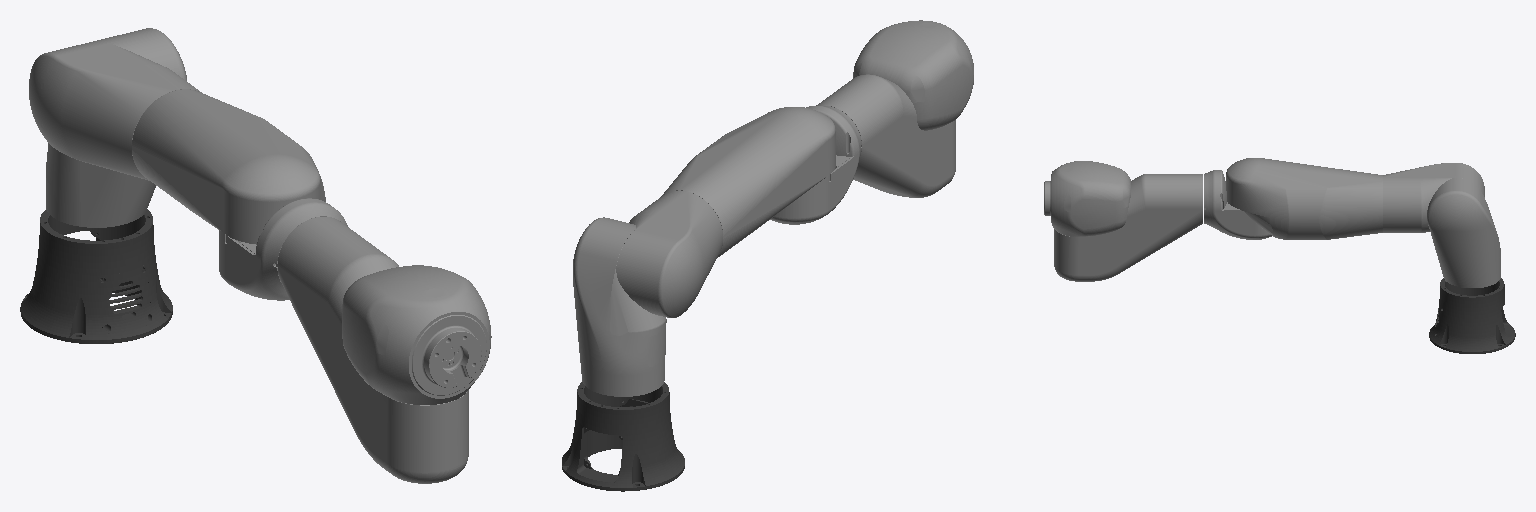
URDF robot description (repair_arm):
<?xml version="1.0" ?>
<!-- =================================================================================== -->
<!-- |    This document was autogenerated by xacro from repair_arm_final.urdf.xacro    | -->
<!-- |    EDITING THIS FILE BY HAND IS NOT RECOMMENDED                                 | -->
<!-- =================================================================================== -->
<robot name="repair_arm">
  <material name="grey">
    <color rgba="0.5 0.5 0.5 1"/>
  </material>
  <material name="dark_grey">
    <color rgba="0.3 0.3 0.3 1"/>
  </material>
  <material name="red">
    <color rgba="1.0 0.0 0.0 1"/>
  </material>
  <material name="green">
    <color rgba="0.0 1.0 0.0 1"/>
  </material>
  <material name="blue">
    <color rgba="0.13333333333333333 0.25882352941176473 0.7803921568627451 1.0"/>
  </material>
  <material name="darkblue">
    <color rgba="0.0 0.3 0.9 1"/>
  </material>
  <material name="darkred">
    <color rgba="0.55 0.0 0.0 1"/>
  </material>
  <material name="dark">
    <color rgba="0.6 0.6 0.6 1"/>
  </material>
  <!-- macro for generating the urdf associated with a single arm of the RePair platform -->
  <!-- id: specifies the id of the arm (e.g. 0 for left arm and 1 for right) -->
  <!-- base_link: name of base link a the single arm -->
  <!-- is_sliding_wrist: whether to add a sliding joint along the wrist second d.o.f.
    (true -> yes), everything else -> no. This is used to generate the URDF for the optimization.  -->
  <!-- gen_coll: whether to add the approximate collision  model of the platform -->
  <!-- use_updated_wrist: visual parameter. if true, we load the latest meshes (which are adapted to the
results of the optimization), otherwise we go with the old ones (generated for a spherical wrist) -->
  <!-- 0.0  -->
  <!-- 2.4405495 -->
  <!-- 7.8724534e-01 -->
  <!-- 2.8848438e+00-->
  <!-- 6.0145584e-01 -->
  <!-- 2.7650803e+00 -->
  <!-- 1.8854765e+00 -->
  <!-- 2.4405495 -->
  <!-- Origin -->
  <!-- <xacro:property name="motor_A_velocity" value="8.8"/>
    <xacro:property name="motor_B_velocity" value="8.1"/>
    <xacro:property name="motor_C_velocity" value="20.0"/>
    
    <xacro:property name="motor_A_effort" value="304"/>
    <xacro:property name="motor_B_effort" value="147"/>
    <xacro:property name="motor_C_effort" value="35"/> -->
  <gazebo>
    <plugin filename="libxbot2_gz_joint_server.so" name="xbot2_joint_driver">
      <pid>
        <gain d="1" name="fake_mot" p="10"/>
        <gain d="10" name="small_mot" p="1000"/>
        <gain d="20" name="medium_mot" p="2000"/>
        <pid name="j_arm_1_1" profile="medium_mot"/>
        <pid name="j_arm_1_2" profile="medium_mot"/>
        <pid name="j_arm_1_3" profile="medium_mot"/>
        <pid name="j_arm_1_4" profile="medium_mot"/>
        <pid name="j_arm_1_5" profile="small_mot"/>
        <pid name="j_arm_1_6" profile="small_mot"/>
        <pid name="j_arm_1_7" profile="small_mot"/>
      </pid>
    </plugin>
  </gazebo>
  <link name="world"/>
  <!-- base -->
  <link name="base_link">
    <inertial>
      <origin xyz="0.00020548930000000002 -0.00062095789 0.077352002"/>
      <mass value="2.7764953"/>
      <inertia ixx="0.010002127" ixy="4.1468013999999995e-05" ixz="-5.1253649e-05" iyy="0.010728527" iyz="-0.00012700723" izz="0.006215603699999999"/>
    </inertial>
    <visual>
      <origin rpy="0.0 0.0 0.0" xyz="0.0 0.0 0.0"/>
      <geometry>
        <mesh filename="package://repair_urdf/meshes/mesh_base.stl" scale="0.001 0.001 0.001"/>
      </geometry>
      <material name="dark_grey"/>
    </visual>
    <collision>
      <origin rpy="0.0 0.0 0.0" xyz="0.0 0.0 0.0"/>
      <geometry>
        <mesh filename="package://repair_urdf/meshes/simplified/mesh_base.stl" scale="0.001 0.001 0.001"/>
      </geometry>
    </collision>
  </link>
  <!-- base -->
  <joint name="base_joint" type="fixed">
    <parent link="world"/>
    <child link="base_link"/>
    <origin rpy="0 0 0" xyz="0 0 0"/>
  </joint>
  <link name="arm_1_1">
    <inertial>
      <origin xyz="0.010200651000000002 -0.021560998 0.09876702500000001"/>
      <mass value="2.347"/>
      <inertia ixx="0.007192915699999999" ixy="7.854318399999999e-05" ixz="-0.00039791235999999997" iyy="0.009471160999999999" iyz="0.0012857050999999999" izz="0.0058530904"/>
    </inertial>
    <visual>
      <geometry>
        <mesh filename="package://repair_urdf/meshes/mesh_sh-pitch.stl" scale="0.001 0.001 0.001"/>
      </geometry>
      <material name="dark"/>
    </visual>
    <collision>
      <geometry>
        <mesh filename="package://repair_urdf/meshes/simplified/mesh_sh-pitch.stl" scale="0.001 0.001 0.001"/>
      </geometry>
    </collision>
  </link>
  <link name="arm_1_2">
    <inertial>
      <origin xyz="4.5955243e-05 -0.044957128 -0.030791013"/>
      <mass value="0.76"/>
      <inertia ixx="0.0027927572" ixy="-2.0135067e-06" ixz="-1.3644218e-06" iyy="0.0019288488" iyz="-0.00066693438" izz="0.0026633366"/>
    </inertial>
    <visual>
      <geometry>
        <mesh filename="package://repair_urdf/meshes/mesh_sh-roll.stl" scale="0.001 0.001 0.001"/>
      </geometry>
      <material name="dark"/>
    </visual>
    <collision>
      <geometry>
        <mesh filename="package://repair_urdf/meshes/simplified/mesh_sh-roll.stl" scale="0.001 0.001 0.001"/>
      </geometry>
    </collision>
  </link>
  <link name="arm_1_3">
    <inertial>
      <origin xyz="0.005099315 0.0059986523 -0.18011742"/>
      <mass value="3.34"/>
      <inertia ixx="0.031298784999999996" ixy="-0.00025158367" ixz="0.002371127" iyy="0.031963501" iyz="0.0018728041" izz="0.0026332359"/>
    </inertial>
    <visual>
      <geometry>
        <mesh filename="package://repair_urdf/meshes/mesh_sh-yaw.stl" scale="0.001 0.001 0.001"/>
      </geometry>
      <material name="dark"/>
    </visual>
    <collision>
      <geometry>
        <mesh filename="package://repair_urdf/meshes/simplified/mesh_sh-yaw.stl" scale="0.001 0.001 0.001"/>
      </geometry>
    </collision>
  </link>
  <link name="arm_1_4">
    <inertial>
      <origin xyz="3.332275e-06 -0.033289421 -0.023682302"/>
      <mass value="0.55"/>
      <inertia ixx="0.0016198328" ixy="-1.2642724e-06" ixz="-1.1734799e-06" iyy="0.0012266731" iyz="-0.00039531700999999997" izz="0.0016081346"/>
    </inertial>
    <visual>
      <geometry>
        <mesh filename="package://repair_urdf/meshes/mesh_elbow.stl" scale="0.001 0.001 0.001"/>
      </geometry>
      <material name="dark"/>
    </visual>
    <collision>
      <geometry>
        <mesh filename="package://repair_urdf/meshes/simplified/mesh_elbow.stl" scale="0.001 0.001 0.001"/>
      </geometry>
    </collision>
  </link>
  <link name="arm_1_5">
    <inertial>
      <origin xyz="0.00094711044 -0.048009667 -0.14331833"/>
      <mass value="2.825"/>
      <inertia ixx="0.030333275" ixy="7.3729709e-05" ixz="3.2427371e-05" iyy="0.025195444999999997" iyz="-0.0095263763" izz="0.0069975103999999995"/>
    </inertial>
    <visual>
      <geometry>
        <mesh filename="package://repair_urdf/meshes/mesh_forearm-yaw.stl" scale="0.001 0.001 0.001"/>
      </geometry>
      <material name="dark"/>
    </visual>
    <collision>
      <geometry>
        <mesh filename="package://repair_urdf/meshes/simplified/mesh_forearm-yaw.stl" scale="0.001 0.001 0.001"/>
      </geometry>
    </collision>
  </link>
  <link name="arm_1_6">
    <inertial>
      <origin xyz="0.00068559302 -0.0050299682 0.046682846"/>
      <mass value="1.861"/>
      <inertia ixx="0.0042406037" ixy="-5.5692732e-05" ixz="-9.085198200000001e-05" iyy="0.0029010805999999997" iyz="-0.00018560541" izz="0.0044989008"/>
    </inertial>
    <visual>
      <geometry>
        <mesh filename="package://repair_urdf/meshes/mesh_wrist-pitch.stl" scale="0.001 0.001 0.001"/>
      </geometry>
      <material name="dark"/>
    </visual>
    <collision>
      <geometry>
        <mesh filename="package://repair_urdf/meshes/simplified/mesh_wrist-pitch.stl" scale="0.001 0.001 0.001"/>
      </geometry>
    </collision>
  </link>
  <link name="arm_1_7">
    <inertial>
      <origin xyz="0.0 -0.0010491951 -0.010307299"/>
      <mass value="0.1416397"/>
      <inertia ixx="6.1479333e-05" ixy="-7.4023399e-11" ixz="0.0" iyy="6.4247521e-05" iyz="4.778644799999999e-07" izz="0.00011879743999999998"/>
    </inertial>
    <visual>
      <geometry>
        <mesh filename="package://repair_urdf/meshes/mesh_wrist-roll.stl" scale="0.001 0.001 0.001"/>
      </geometry>
      <material name="dark"/>
    </visual>
    <collision>
      <geometry>
        <mesh filename="package://repair_urdf/meshes/simplified/mesh_wrist-roll.stl" scale="0.001 0.001 0.001"/>
      </geometry>
    </collision>
  </link>
  <link name="arm_1_tcp">
    <inertial>
      <origin xyz="0.0 0.05 0.1"/>
      <mass value="0.5"/>
      <inertia ixx="0.001" ixy="0.0" ixz="0.0" iyy="0.001" iyz="0.0" izz="0.001"/>
    </inertial>
  </link>
  <!-- JOINTS -->
  <!-- shoulder pitch -->
  <joint name="j_arm_1_1" type="revolute">
    <parent link="base_link"/>
    <child link="arm_1_1"/>
    <axis xyz="0 0 1"/>
    <origin rpy="0.0 0.0 0.0" xyz="0.0 0.0 0.14"/>
    <limit effort="147.0" lower="-2.6" upper="2.6" velocity="3.86"/>
  </joint>
  <!-- shoulder pitch -->
  <!-- shoulder yaw -->
  <joint name="j_arm_1_2" type="revolute">
    <parent link="arm_1_1"/>
    <child link="arm_1_2"/>
    <origin rpy="0.0 -1.570796326795 0.0" xyz="-0.06 -0.03 0.1255"/>
    <axis xyz="0 0 -1"/>
    <limit effort="147.0" lower="-2.5" upper="0.1" velocity="3.86"/>
  </joint>
  <!-- shoulder yaw -->
  <!-- shoulder yaw -->
  <joint name="j_arm_1_3" type="revolute">
    <parent link="arm_1_2"/>
    <child link="arm_1_3"/>
    <origin rpy="-1.570796326795 -1.570796326795 0.0" xyz="0.0 -0.073 -0.06015"/>
    <axis xyz="0 0 -1"/>
    <limit effort="147.0" lower="-2.6" upper="2.6" velocity="6.06"/>
  </joint>
  <!-- shoulder yaw -->
  <!-- elbow -->
  <joint name="j_arm_1_4" type="revolute">
    <parent link="arm_1_3"/>
    <child link="arm_1_4"/>
    <origin rpy="1.570796326795 0.0 0.0" xyz="0.0225 -0.05015 -0.29215"/>
    <axis xyz="0 0 -1"/>
    <limit effort="147.0" lower="-2.4" upper="0.8" velocity="6.06"/>
  </joint>
  <!-- elbow -->
  <!-- forearm yaw -->
  <joint name="j_arm_1_5" type="revolute">
    <parent link="arm_1_4"/>
    <child link="arm_1_5"/>
    <origin rpy="-1.570796326795 0.0 0.0" xyz="0.0 -0.0725 -0.05015"/>
    <axis xyz="0 0 -1"/>
    <limit effort="55.0" lower="-2.8" upper="2.8" velocity="11.72"/>
  </joint>
  <!-- forearm yaw -->
  <!-- wrist pitch-->
  <joint name="j_arm_1_6" type="revolute">
    <parent link="arm_1_5"/>
    <child link="arm_1_6"/>
    <origin rpy="-1.570796326795 0.0 0.0" xyz="0.0 -0.05 -0.2475"/>
    <axis xyz="0 0 1"/>
    <limit effort="55.0" lower="-2.8" upper="2.1" velocity="11.72"/>
  </joint>
  <!-- wrist pitch-->
  <!-- wrist roll-->
  <joint name="j_arm_1_7" type="revolute">
    <parent link="arm_1_6"/>
    <child link="arm_1_7"/>
    <origin rpy="-1.570796326795 0.3316123 0.0" xyz="0.0 0.062877 0.05"/>
    <axis xyz="0 0 1"/>
    <limit effort="55.0" lower="-2.8" upper="2.8" velocity="11.72"/>
  </joint>
  <!-- /wrist roll-->
  <!-- virtual tip-->
  <joint name="j_tcp_1" type="fixed">
    <parent link="arm_1_7"/>
    <child link="arm_1_tcp"/>
    <origin rpy="0.0 0.0 0.0" xyz="0.0 0.0 0.0"/>
  </joint>
  <!-- virtual tip-->
</robot>

--- Facts derived from the render (not from the file) ---
The picture shows the robot from 3 angles, left to right: view 1: azimuth 30°, elevation 25°; view 2: azimuth 150°, elevation 25°; view 3: azimuth 270°, elevation 25°; orthographic projection.
Model repair_arm with 10 links and 9 joints (7 revolute, 2 fixed), rooted at world, posed every joint at zero.
Visible links, largest first — view 1: arm_1_5, arm_1_3, base_link, arm_1_2, arm_1_6, arm_1_1, arm_1_4, arm_1_7; view 2: arm_1_3, arm_1_1, arm_1_5, arm_1_2, base_link, arm_1_6, arm_1_4; view 3: arm_1_3, arm_1_5, arm_1_1, arm_1_6, base_link, arm_1_2, arm_1_4.
Link boxes in pixels (<box>): arm_1_5: <box>278,217,468,483</box>; arm_1_3: <box>132,89,325,244</box>; base_link: <box>20,209,172,343</box>; arm_1_2: <box>29,40,201,180</box>; arm_1_6: <box>342,265,491,404</box>; arm_1_1: <box>46,28,186,227</box>; arm_1_4: <box>219,198,347,300</box>; arm_1_7: <box>412,315,486,395</box>; arm_1_3: <box>661,107,835,257</box>; arm_1_1: <box>573,217,666,396</box>; arm_1_5: <box>816,74,955,197</box>; arm_1_2: <box>616,190,722,317</box>; base_link: <box>562,382,684,491</box>; arm_1_6: <box>853,20,973,130</box>; arm_1_4: <box>770,106,861,224</box>; arm_1_3: <box>1226,158,1382,239</box>; arm_1_5: <box>1054,174,1202,281</box>; arm_1_1: <box>1427,178,1500,287</box>; arm_1_6: <box>1052,161,1130,236</box>; base_link: <box>1429,278,1515,353</box>; arm_1_2: <box>1383,163,1484,232</box>; arm_1_4: <box>1204,170,1271,239</box>.
Bounding box of the posed robot: 0.1688 × 0.8565 × 0.3405 m (x, y, z).
8 mesh visuals loaded from 8 distinct referenced files (8 binary STL).